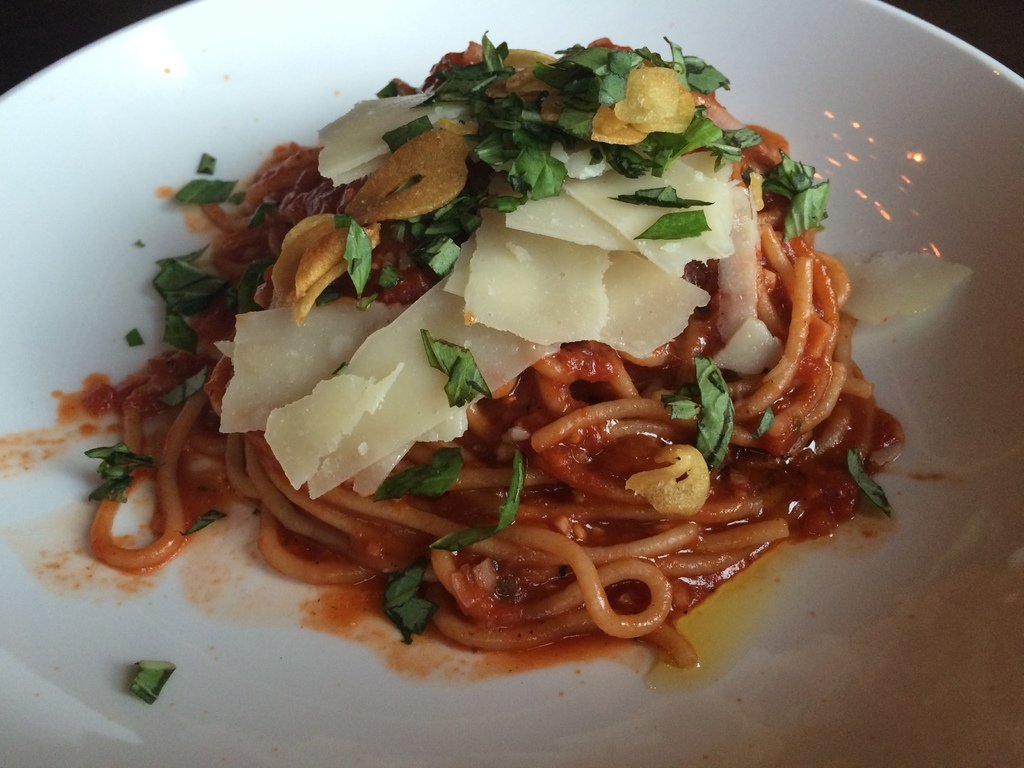pasta: (87, 36, 852, 667)
